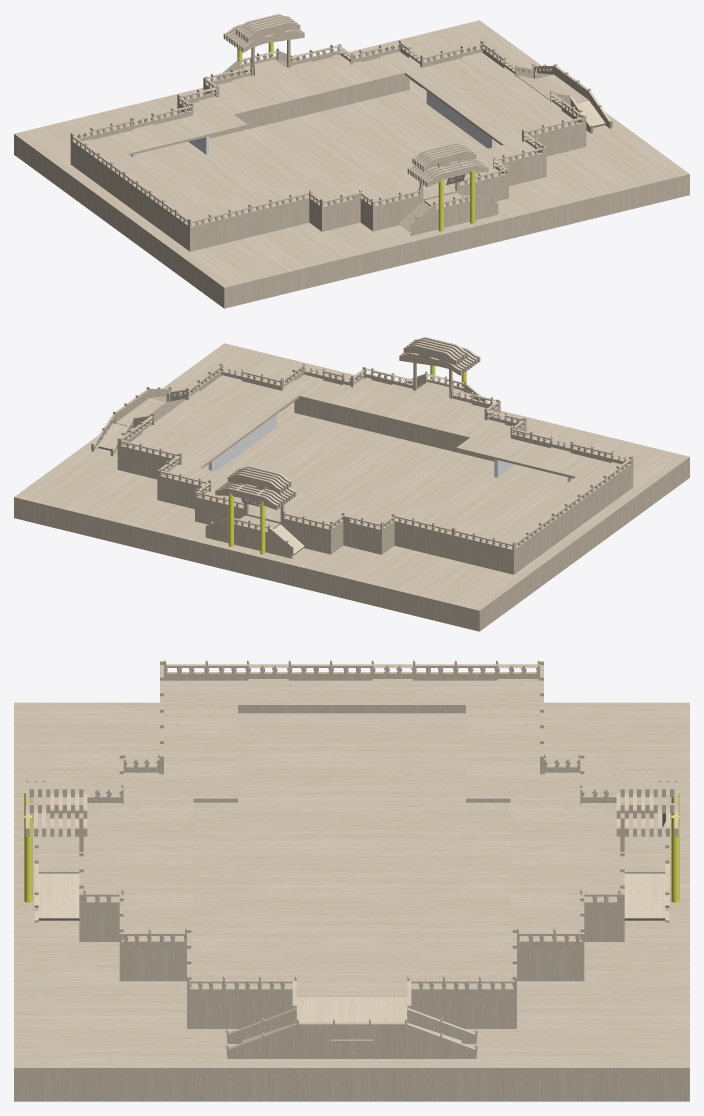
3 renders of one model, top to bottom at view 1: azimuth 30°, elevation 25°; view 2: azimuth 150°, elevation 25°; view 3: azimuth 270°, elevation 25°, orthographic. The views are drawn at different scales.
Visible parts, largest first — view 1: Mesh18 ___124_1 Model, Mesh103 ___215_1 Model, Mesh125 ___215_2 Model, Mesh37 ___188_2 Model, Mesh36 ___189_2 Model, Mesh38 ___217_1 Model, Mesh50 ___57_1 ___209_1 ___212_1 Model, Mesh180 ___114_1 ___213_1 Model, Mesh72 ___39_1 ___204_1 ___212_1 Model, Mesh78 ___5_1 ___205_1 ___212_1 Model, Mesh30 ___218_1 Model, Mesh7 ___193_1 Model (+23 smaller); view 2: Mesh18 ___124_1 Model, Mesh125 ___215_2 Model, Mesh103 ___215_1 Model, Mesh13 ___188_1 Model, Mesh36 ___189_2 Model, Mesh127 ___217_2 Model, Mesh140 ___57_2 ___209_2 ___212_2 Model, Mesh180 ___114_1 ___213_1 Model, Mesh162 ___39_2 ___204_2 ___212_2 Model, Mesh168 ___5_2 ___205_2 ___212_2 Model, Mesh30 ___218_1 Model, Mesh7 ___193_1 Model (+23 smaller); view 3: Mesh18 ___124_1 Model, Mesh103 ___215_1 Model, Mesh125 ___215_2 Model, Mesh16 ___189_1 Model, Mesh7 ___193_1 Model, Mesh1 ___129_1 Model, Mesh42 ___10_1 ___200_1 ___212_1 Model, Mesh132 ___10_2 ___200_2 ___212_2 Model, Mesh43 ___3_1 ___59_1 ___212_1 Model, Mesh133 ___3_2 ___59_2 ___212_2 Model, Mesh48 ___90_1 ___212_1 Model, Mesh138 ___90_3 ___212_2 Model (+17 smaller).
Boxes of the visible parts, x1,y1,x2,y2 form: Mesh18 ___124_1 Model: (14, 20, 689, 291); Mesh103 ___215_1 Model: (79, 52, 533, 184); Mesh125 ___215_2 Model: (139, 89, 574, 225); Mesh37 ___188_2 Model: (227, 178, 686, 307); Mesh36 ___189_2 Model: (14, 137, 227, 308); Mesh38 ___217_1 Model: (209, 75, 409, 138); Mesh50 ___57_1 ___209_1 ___212_1 Model: (188, 202, 309, 251); Mesh180 ___114_1 ___213_1 Model: (71, 145, 188, 250); Mesh72 ___39_1 ___204_1 ___212_1 Model: (371, 175, 508, 231); Mesh78 ___5_1 ___205_1 ___212_1 Model: (410, 205, 498, 235); Mesh30 ___218_1 Model: (426, 91, 495, 148); Mesh7 ___193_1 Model: (532, 63, 612, 128); Mesh18 ___124_1 Model: (14, 343, 689, 614); Mesh125 ___215_2 Model: (170, 375, 624, 507); Mesh103 ___215_1 Model: (129, 412, 564, 548); Mesh13 ___188_1 Model: (17, 501, 476, 630); Mesh36 ___189_2 Model: (476, 460, 689, 631); Mesh127 ___217_2 Model: (294, 398, 494, 461); Mesh140 ___57_2 ___209_2 ___212_2 Model: (394, 525, 515, 574); Mesh180 ___114_1 ___213_1 Model: (515, 468, 632, 573); Mesh162 ___39_2 ___204_2 ___212_2 Model: (195, 501, 332, 554); Mesh168 ___5_2 ___205_2 ___212_2 Model: (205, 528, 293, 558); Mesh30 ___218_1 Model: (208, 414, 277, 471); Mesh7 ___193_1 Model: (91, 386, 171, 451); Mesh18 ___124_1 Model: (14, 702, 689, 1073); Mesh103 ___215_1 Model: (352, 680, 620, 996); Mesh125 ___215_2 Model: (83, 680, 351, 996); Mesh16 ___189_1 Model: (14, 1073, 689, 1101); Mesh7 ___193_1 Model: (226, 1019, 477, 1058); Mesh1 ___129_1 Model: (296, 996, 407, 1022); Mesh42 ___10_1 ___200_1 ___212_1 Model: (187, 996, 292, 1028); Mesh132 ___10_2 ___200_2 ___212_2 Model: (411, 996, 516, 1028); Mesh43 ___3_1 ___59_1 ___212_1 Model: (119, 948, 186, 981); Mesh133 ___3_2 ___59_2 ___212_2 Model: (517, 948, 584, 981); Mesh48 ___90_1 ___212_1 Model: (38, 873, 79, 920); Mesh138 ___90_3 ___212_2 Model: (624, 873, 665, 920).
Size of the model in its own units: 419 by 75.11 by 328.
3 materials, 1 textured.
